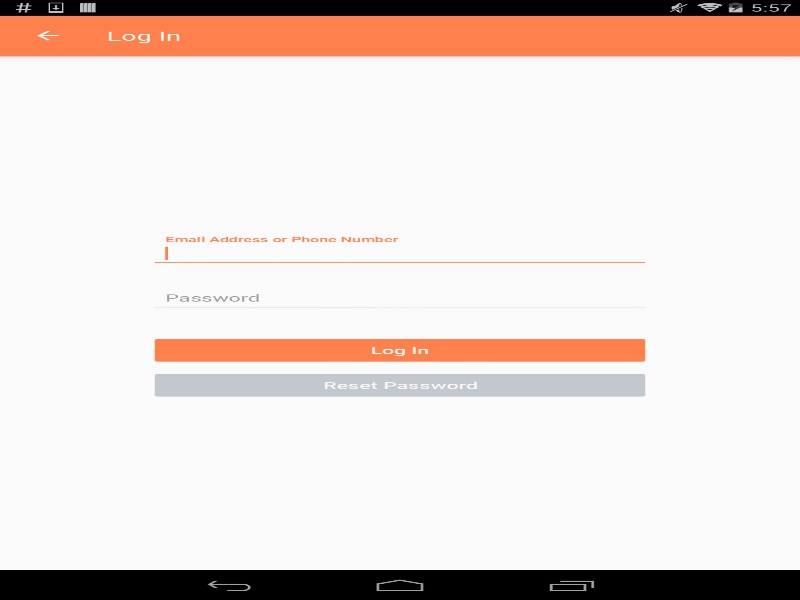Button: (149, 335, 650, 365), (149, 370, 650, 400), (10, 15, 85, 55)
Input: (149, 242, 650, 265), (149, 287, 650, 310)
